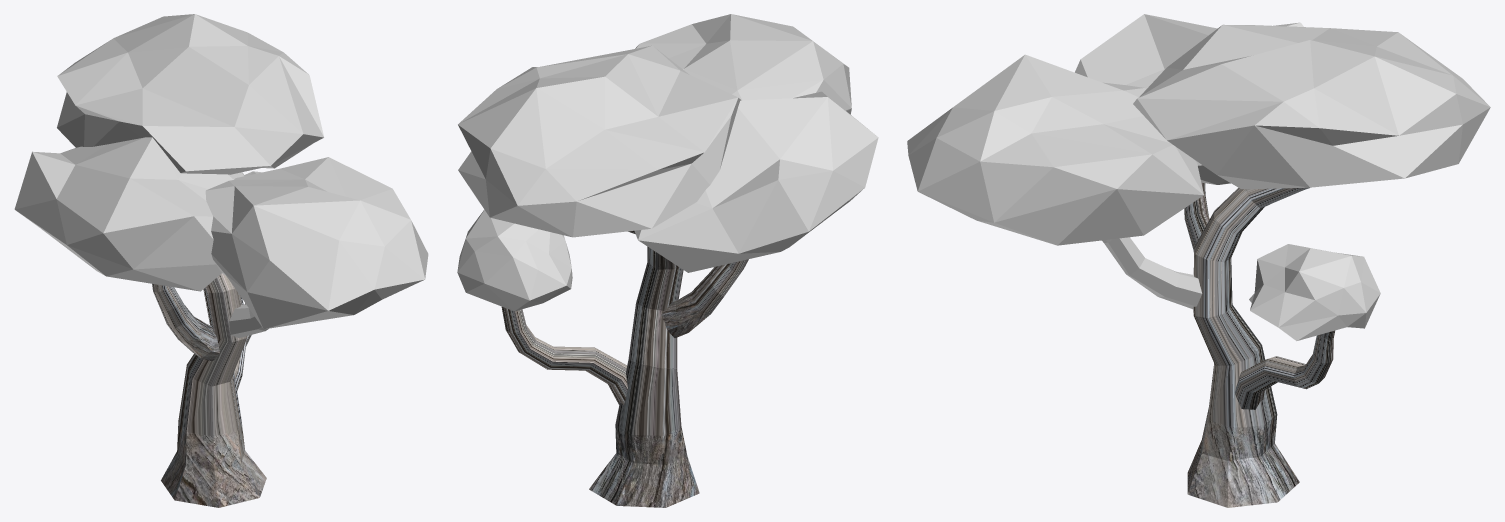
The model's file is Tree_2_Leaves.fbx.
3 renders of one model, left to right at view 1: azimuth 30°, elevation 25°; view 2: azimuth 150°, elevation 25°; view 3: azimuth 270°, elevation 25°, orthographic. The views are drawn at different scales.
Visible parts, largest first — view 1: Icosphere.001, Icosphere.002, Icosphere.003, Cylinder.038, Cylinder.029, Cylinder.040; view 2: Icosphere.001, Icosphere.003, Cylinder.038, Icosphere.002, Icosphere, Cylinder.039, Cylinder.029; view 3: Icosphere.001, Icosphere.002, Cylinder.038, Icosphere, Icosphere.003, Cylinder.039, Cylinder.040, Cylinder.029.
Boxes of the visible parts, x1,y1,x2,y2 form: Icosphere.001: (57,14,324,174); Icosphere.002: (205,157,428,329); Icosphere.003: (14,137,244,291); Cylinder.038: (161,273,266,507); Cylinder.029: (152,284,219,361); Cylinder.040: (229,304,268,337); Icosphere.001: (458,45,741,237); Icosphere.003: (634,91,878,272); Cylinder.038: (589,230,699,507); Icosphere.002: (635,14,851,114); Icosphere: (457,209,572,311); Cylinder.039: (501,307,627,404); Cylinder.029: (661,259,748,338); Icosphere.001: (1133,24,1490,189); Icosphere.002: (907,54,1203,245); Cylinder.038: (1187,187,1309,507); Icosphere: (1249,244,1380,340); Icosphere.003: (1075,14,1303,184); Cylinder.039: (1234,330,1334,409); Cylinder.040: (1102,237,1202,309); Cylinder.029: (1184,182,1209,251).
Bounding box in the file's own units: 672 × 818 × 963.
